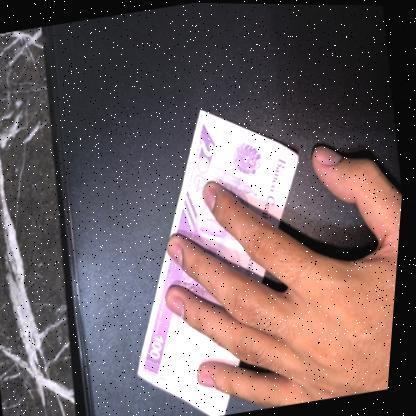one_hundred-back-vef: (95, 89, 348, 416)
